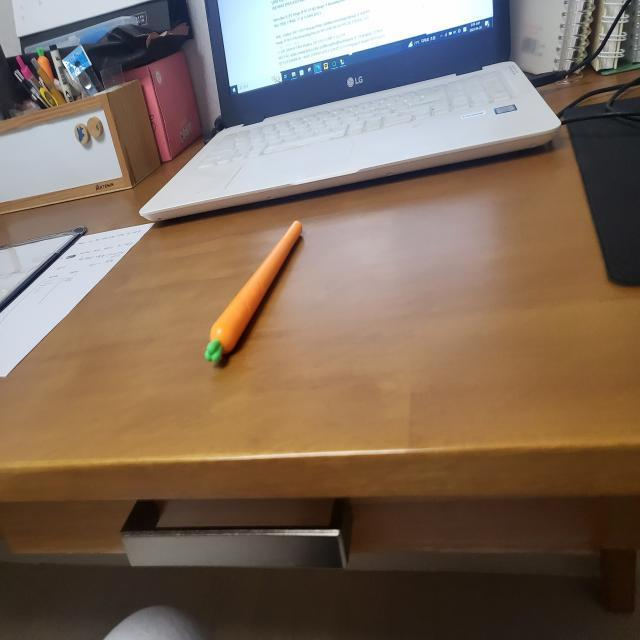carrot: (206, 219, 306, 355)
